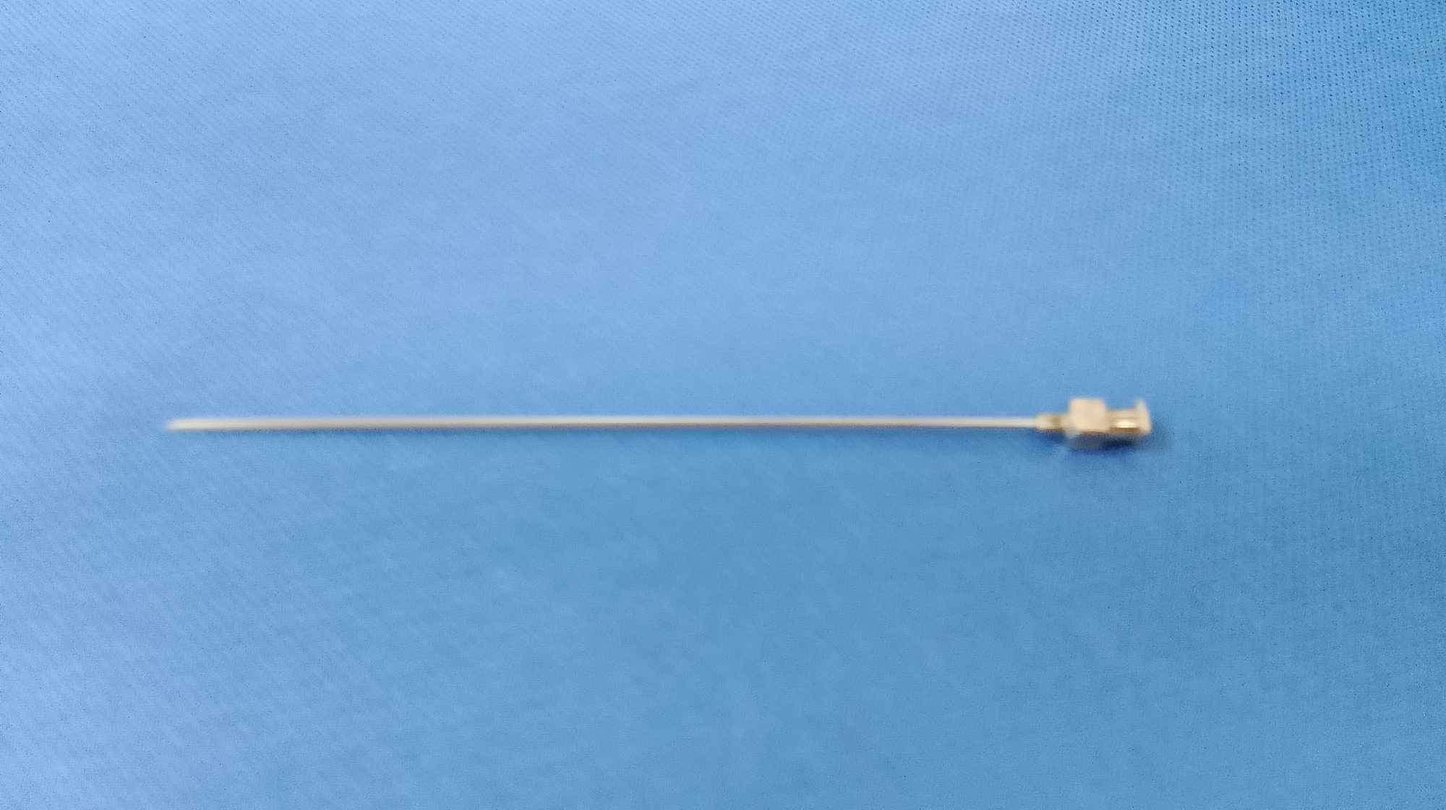Pathological: (5, 4, 1439, 804)
Sharps: (165, 396, 1154, 449)
